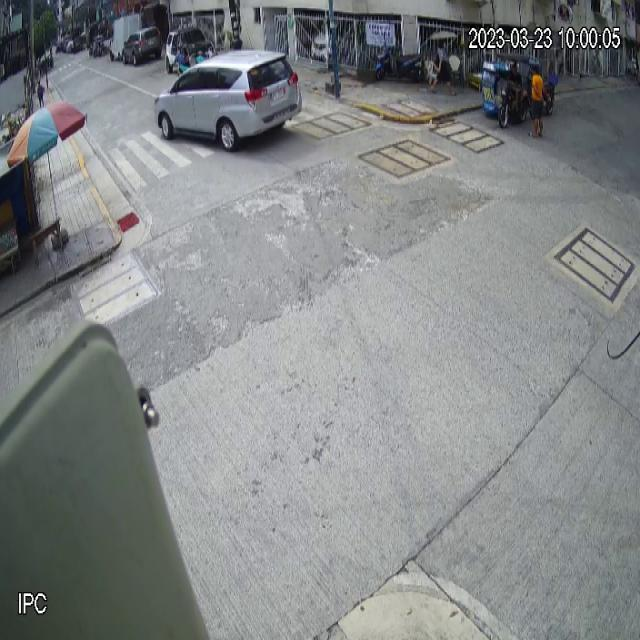Car: (154, 47, 303, 153)
Tricycle: (481, 51, 530, 129)
